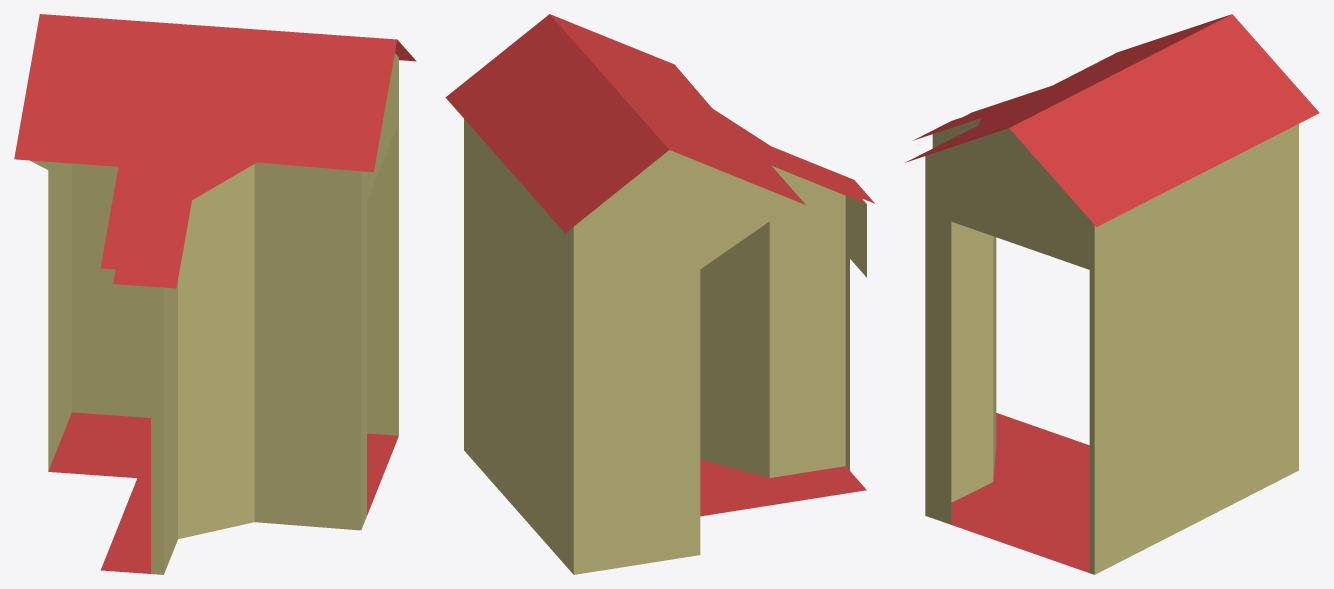
The picture shows the model from 3 angles, left to right: view 1: azimuth 30°, elevation 25°; view 2: azimuth 150°, elevation 25°; view 3: azimuth 270°, elevation 25°; orthographic projection. The views are drawn at different scales.
Size of the model in its own units: 14.72 by 14 by 15.79.
